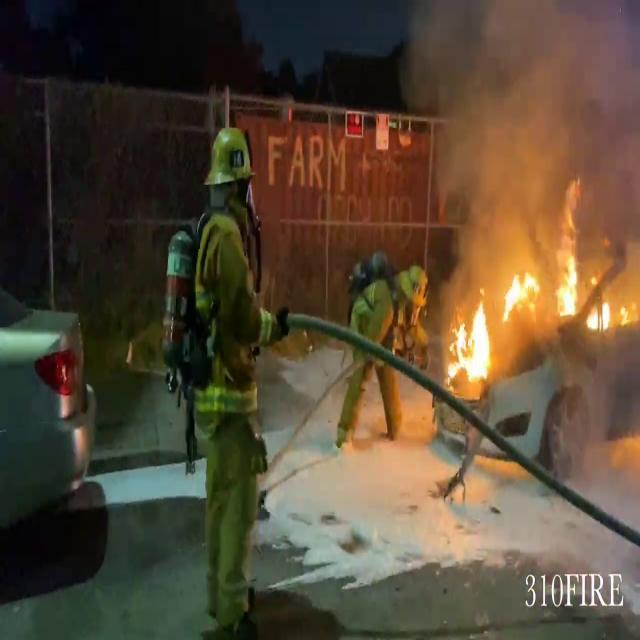Fire: (446, 179, 632, 386), (444, 295, 497, 387)
Smoke: (396, 1, 640, 260)
